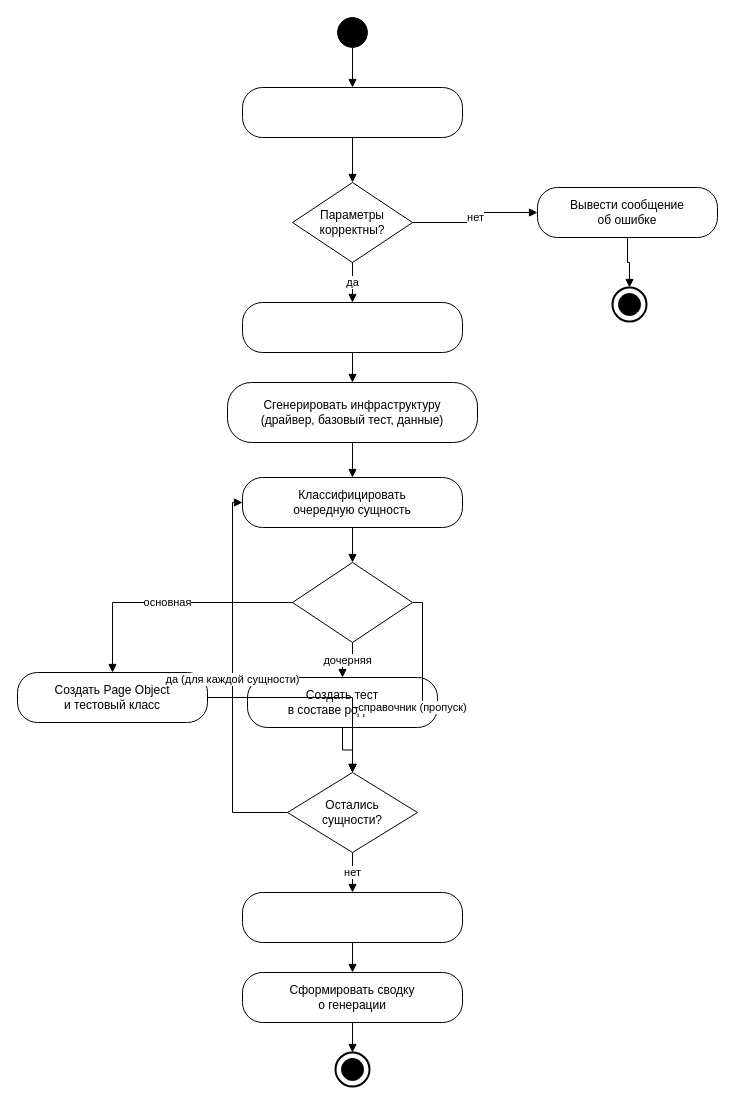
Some shapes in this 735 by 1105 pixel diagram are drawn without their labels. Here are the shapes that lost their labels. From the top down, the centre of each, then its label:
At pixel 352 112: "Проверить наличие модели и каталога генерации".
At pixel 352 327: "Создать структуру Maven-проекта".
At pixel 352 602: "Тип сущности?".
At pixel 352 917: "Сохранить отчёт классификации".
